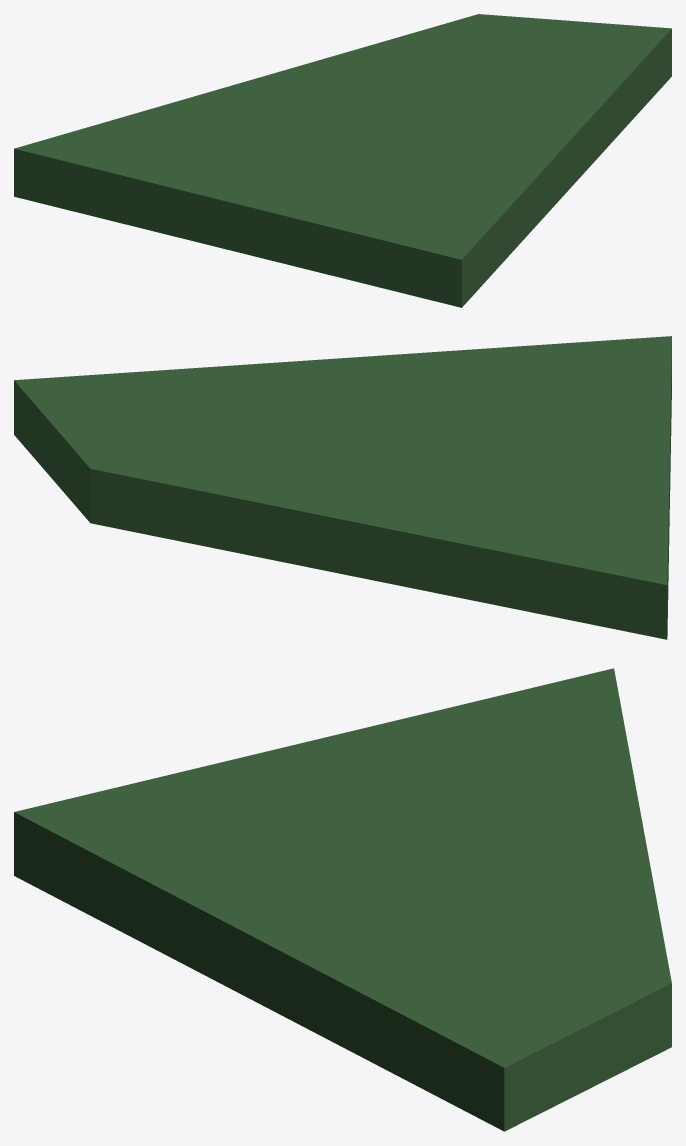
File: x_proval_00_154_1_rmstrd.fbx
The picture shows the model from 3 angles, top to bottom: view 1: azimuth 30°, elevation 25°; view 2: azimuth 150°, elevation 25°; view 3: azimuth 270°, elevation 25°; orthographic projection. The views are drawn at different scales.
Parts seen in each view (by area): view 1: x_proval_00_154_1_rmstrd1; view 2: x_proval_00_154_1_rmstrd1; view 3: x_proval_00_154_1_rmstrd1.
Boxes of the visible parts, left/top/right/bottom form: x_proval_00_154_1_rmstrd1: left=14, top=14, right=671, bottom=307; x_proval_00_154_1_rmstrd1: left=14, top=336, right=671, bottom=639; x_proval_00_154_1_rmstrd1: left=14, top=668, right=671, bottom=1131.
Size of the model in its own units: 2.69 by 0.2 by 1.87.
